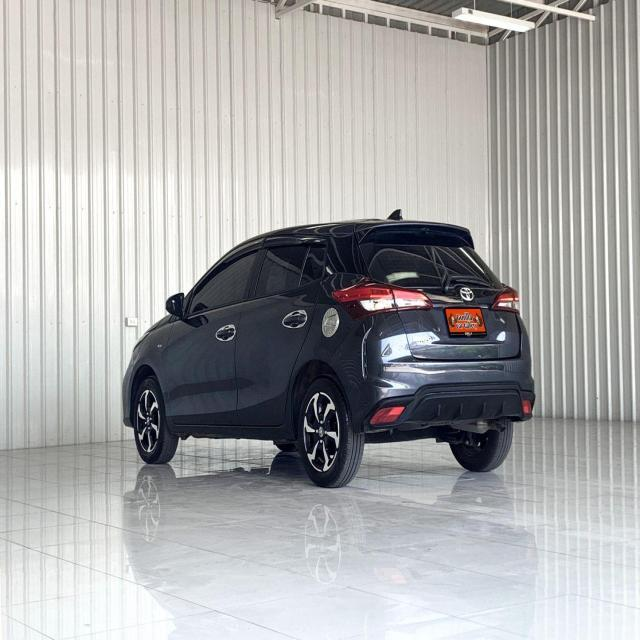Hatchback: (122, 211, 536, 491)
